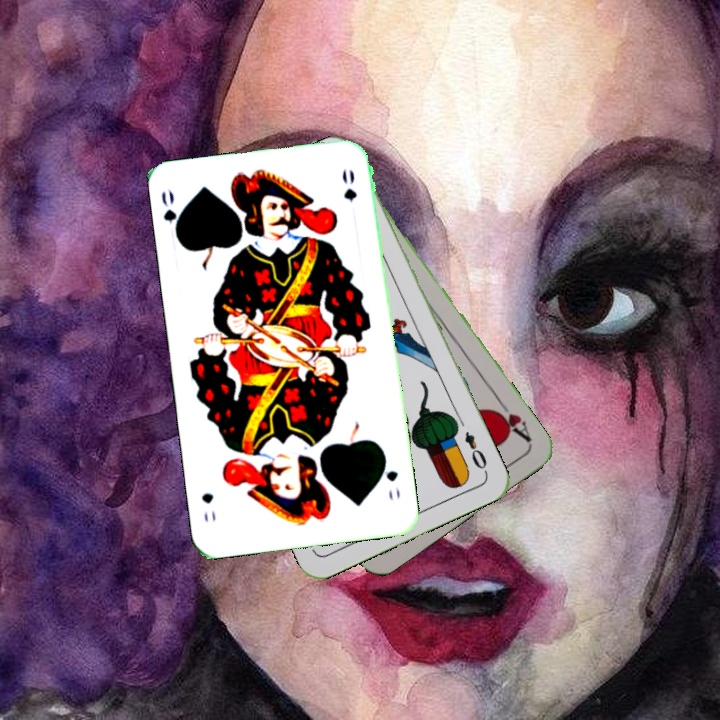EO: (460, 427, 491, 476)
GO: (157, 186, 186, 244), (378, 451, 403, 502)
HA: (489, 394, 534, 445)
